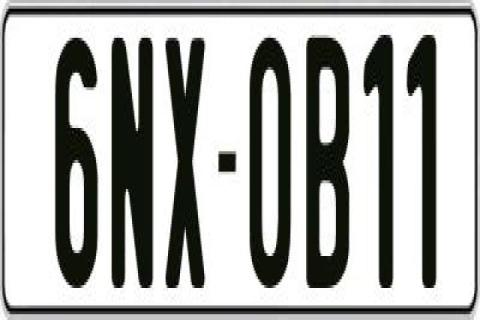0: (52, 32, 100, 300), (248, 35, 294, 297), (364, 32, 394, 300), (406, 29, 436, 297)
B: (306, 29, 356, 279)
N: (110, 32, 154, 282)
X: (162, 35, 208, 288)
